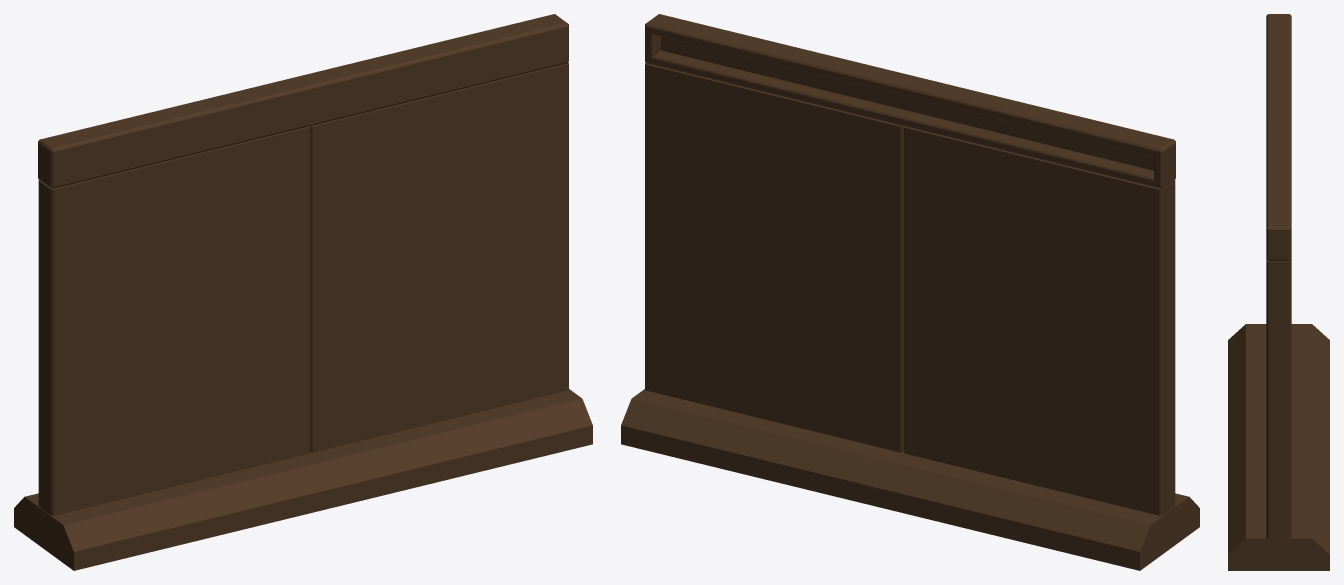
The model's file is Wall_wood 1.fbx.
3 renders of one model, left to right at view 1: azimuth 30°, elevation 25°; view 2: azimuth 150°, elevation 25°; view 3: azimuth 270°, elevation 25°, orthographic. The views are drawn at different scales.
Parts seen in each view (by area): view 1: Wall_wood; view 2: Wall_wood; view 3: Wall_wood.
Boxes of the visible parts, x1,y1,x2,y2 form: Wall_wood: (14, 14, 592, 570); Wall_wood: (621, 14, 1199, 570); Wall_wood: (1228, 14, 1329, 570).
Bounding box in the file's own units: 400 × 298 × 80.
